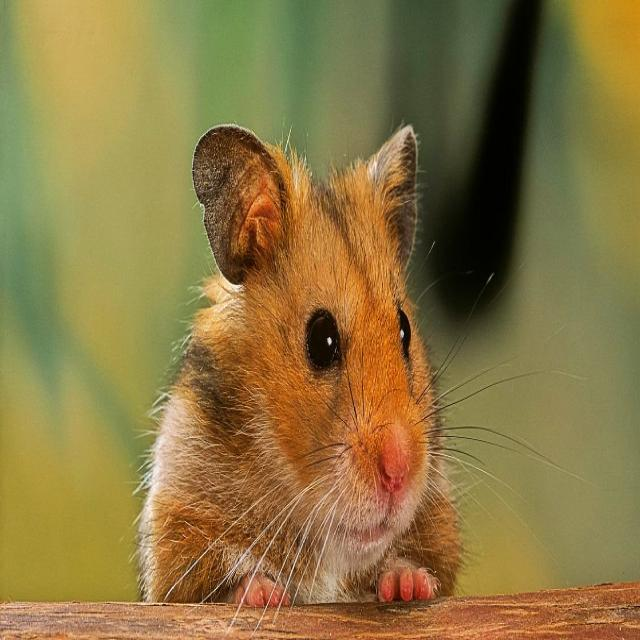hamster: (139, 124, 460, 608)
